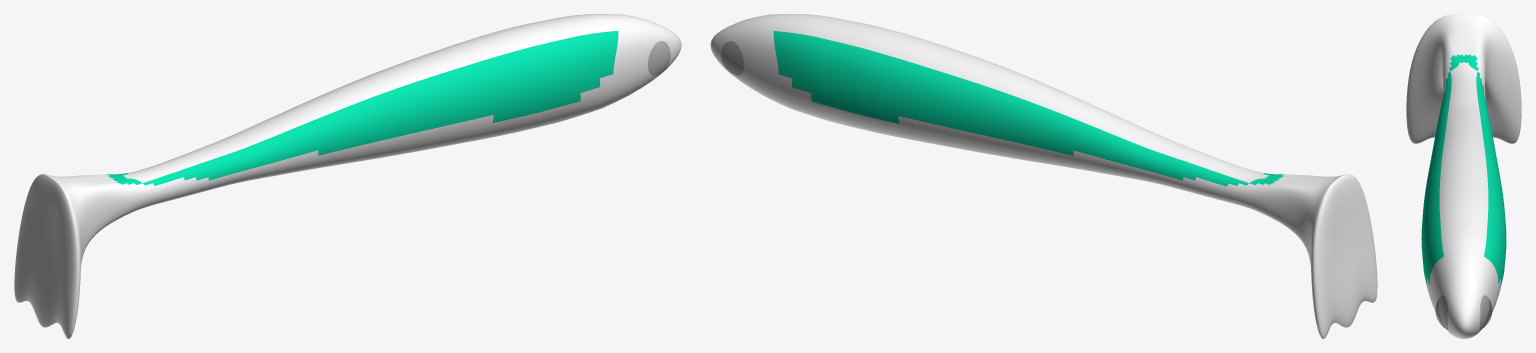
The picture shows the model from 3 angles, left to right: view 1: azimuth 30°, elevation 25°; view 2: azimuth 150°, elevation 25°; view 3: azimuth 270°, elevation 25°; orthographic projection. The views are drawn at different scales.
Visible parts, largest first — view 1: Cube.003; view 2: Cube.003; view 3: Cube.003.
Part boxes in pixels (box(x1,y1,x2,y2)): Cube.003: box(14, 14, 681, 338); Cube.003: box(710, 14, 1377, 338); Cube.003: box(1406, 14, 1521, 338).
Size of the model in its own units: 3.11 by 0.8374 by 0.5012.
